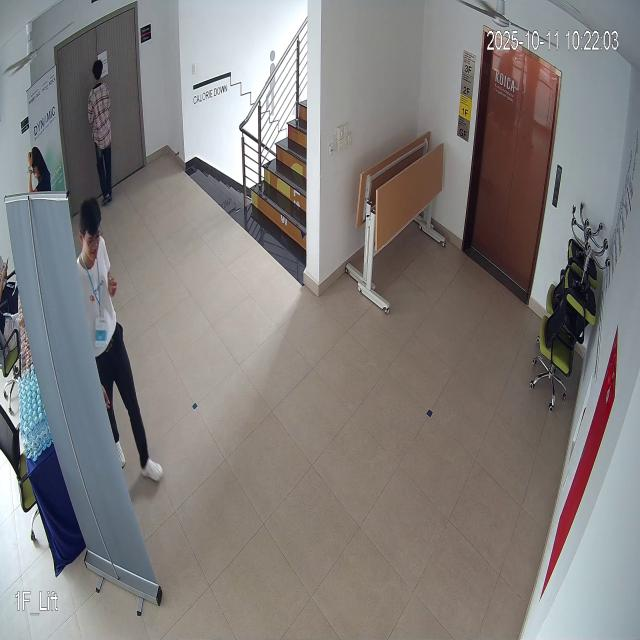face: (71, 191, 106, 276)
